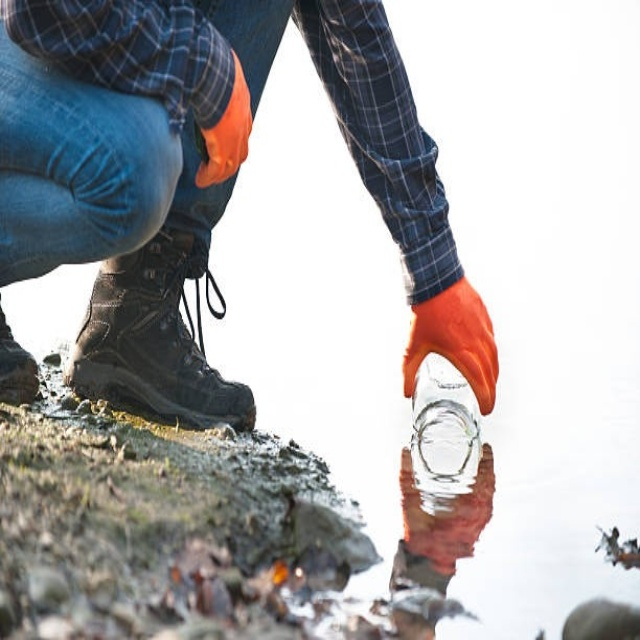Guantes: (402, 276, 499, 417), (398, 442, 494, 584), (193, 47, 252, 188)
